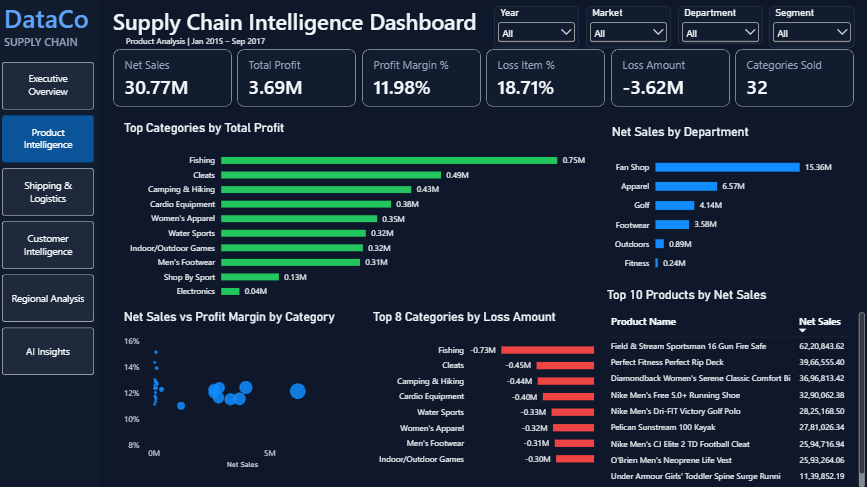

The dashboard page shown, as its layout file describes it:
{"tool":"powerbi","page":{"name":"Product Intelligence","canvas":[1280,720],"ordinal":1},"visuals":[{"type":"shape","box":[0,0,150,720],"z":0},{"type":"textbox","box":[10,4.4,136.1,62.6],"z":1000},{"type":"textbox","box":[10,52.9,136.1,41],"z":2000},{"type":"textbox","box":[170,12,600,50],"z":3000},{"type":"cardVisual","fields":{"Data":["Table.Total Profit"]},"box":[353,75,175,85],"z":4000},{"type":"cardVisual","fields":{"Data":["Table.Profit Margin %"]},"box":[536,75,175,85],"z":5000},{"type":"cardVisual","fields":{"Data":["Table.Loss Item %"]},"box":[719,75,175,85],"z":6000},{"type":"cardVisual","fields":{"Data":["Table.Loss Amount"]},"box":[902,75,175,85],"z":7000},{"type":"cardVisual","fields":{"Data":["Table.Categories Sold"]},"box":[1085,75,175,85],"z":8000},{"type":"cardVisual","fields":{"Data":["Table.Net Sales"]},"box":[170,75,175,85],"z":9000},{"type":"slicer","title":"Year","fields":{"Values":["Calender.Year"]},"box":[730.3,11.8,124.9,61.7],"z":10000},{"type":"slicer","title":"Year","fields":{"Values":["DataCo.Market"]},"box":[865.5,11.8,124.9,61.7],"z":11000},{"type":"slicer","title":"Year","fields":{"Values":["DataCo.Department Name"]},"box":[1000.7,11.8,124.9,55.8],"z":12000},{"type":"slicer","title":"Year","fields":{"Values":["DataCo.Customer Segment"]},"box":[1134.4,11.8,126.4,61.7],"z":13000},{"type":"tableEx","title":"Top 10 Products by Net Sales","fields":{"Values":["DataCo.Product Name","Table.Net Sales"]},"box":[896.3,424.7,379.1,295.3],"z":14000},{"type":"clusteredBarChart","title":"Top Categories by Total Profit","fields":{"Y":["Table.Total Profit"],"Category":["DataCo.Category Name"]},"box":[170.4,166,709.7,295.3],"z":15000},{"type":"pageNavigator","box":[7.3,94,135,462.9],"z":16000},{"type":"clusteredBarChart","title":"Net Sales by Department","fields":{"Y":["Table.Net Sales"],"Category":["DataCo.Department Name"]},"box":[888,172,372,252],"z":17000},{"type":"clusteredBarChart","title":"Top 8 Categories by Loss Amount","fields":{"Category":["DataCo.Category Name"],"Y":["Table.Loss Amount"]},"box":[536.3,443.8,357.1,264.5],"z":18000},{"type":"scatterChart","title":"Net Sales vs Profit Margin by Category","fields":{"X":["Table.Net Sales"],"Y":["Table.Profit Margin %"],"Category":["DataCo.Category Name"],"Size":["Sum(DataCo.Order Item Total)"]},"box":[170.4,443.8,357.1,263],"z":19000},{"type":"textbox","box":[189.6,52.9,229.2,30.9],"z":20000}]}

Visuals, with their boxes on the page's 1280x720 design canvas (x1, y1, x2, y2). These are canvas units, not pixel positions in the 867x487 screenshot, which may show the page scaled, cropped or inside an application window:
shape: (x1=0, y1=0, x2=150, y2=720)
textbox: (x1=10, y1=4, x2=146, y2=67)
textbox: (x1=10, y1=53, x2=146, y2=94)
textbox: (x1=170, y1=12, x2=770, y2=62)
cardVisual - Table.Total Profit: (x1=353, y1=75, x2=528, y2=160)
cardVisual - Table.Profit Margin %: (x1=536, y1=75, x2=711, y2=160)
cardVisual - Table.Loss Item %: (x1=719, y1=75, x2=894, y2=160)
cardVisual - Table.Loss Amount: (x1=902, y1=75, x2=1077, y2=160)
cardVisual - Table.Categories Sold: (x1=1085, y1=75, x2=1260, y2=160)
cardVisual - Table.Net Sales: (x1=170, y1=75, x2=345, y2=160)
"Year" slicer: (x1=730, y1=12, x2=855, y2=74)
"Year" slicer: (x1=866, y1=12, x2=990, y2=74)
"Year" slicer: (x1=1001, y1=12, x2=1126, y2=68)
"Year" slicer: (x1=1134, y1=12, x2=1261, y2=74)
"Top 10 Products by Net Sales" tableEx: (x1=896, y1=425, x2=1275, y2=720)
"Top Categories by Total Profit" clusteredBarChart: (x1=170, y1=166, x2=880, y2=461)
pageNavigator: (x1=7, y1=94, x2=142, y2=557)
"Net Sales by Department" clusteredBarChart: (x1=888, y1=172, x2=1260, y2=424)
"Top 8 Categories by Loss Amount" clusteredBarChart: (x1=536, y1=444, x2=893, y2=708)
"Net Sales vs Profit Margin by Category" scatterChart: (x1=170, y1=444, x2=528, y2=707)
textbox: (x1=190, y1=53, x2=419, y2=84)
